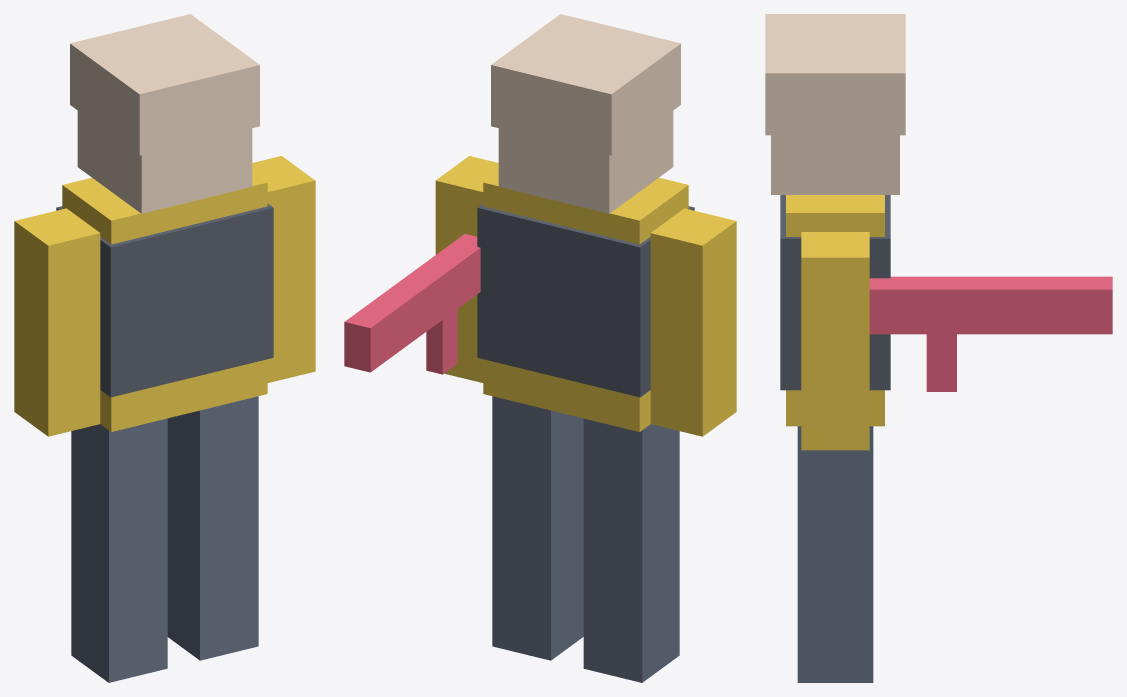
Rendered from sk_character_contender.glb.
3 views of the same model, side by side, from view 1: azimuth 30°, elevation 25°; view 2: azimuth 150°, elevation 25°; view 3: azimuth 270°, elevation 25° (orthographic).
Visible parts, largest first — view 1: boots_and_pants, tactical_jacket, head_and_visor, armor_vest; view 2: boots_and_pants, tactical_jacket, head_and_visor, armor_vest, equipped_m4a1; view 3: head_and_visor, tactical_jacket, boots_and_pants, equipped_m4a1, armor_vest.
Boxes of the visible parts, left/top/right/bottom form: boots_and_pants: left=71, top=396, right=258, bottom=682; tactical_jacket: left=14, top=156, right=315, bottom=436; head_and_visor: left=70, top=14, right=259, bottom=213; armor_vest: left=56, top=203, right=273, bottom=397; boots_and_pants: left=492, top=396, right=679, bottom=682; tactical_jacket: left=435, top=156, right=736, bottom=436; head_and_visor: left=491, top=14, right=680, bottom=213; armor_vest: left=477, top=203, right=694, bottom=397; equipped_m4a1: left=344, top=234, right=480, bottom=374; head_and_visor: left=765, top=14, right=905, bottom=194; tactical_jacket: left=786, top=195, right=884, bottom=450; boots_and_pants: left=797, top=426, right=873, bottom=682; equipped_m4a1: left=869, top=276, right=1112, bottom=391; armor_vest: left=780, top=195, right=890, bottom=390.
Size of the model in its own units: 0.82 by 1.75 by 0.915.
